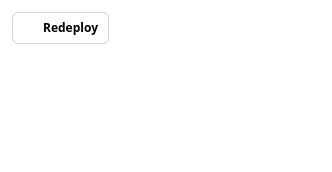
Scenario: RedeployButton › starts a build and opens its deploy page
The width and height of the screenshot is (332, 172).
Click the button "Redeploy" at (60, 28), box [12,12,109,44]
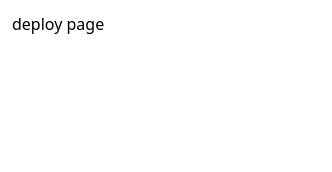
Check: the text "deploy page" is shown, box [12,13,104,35]
